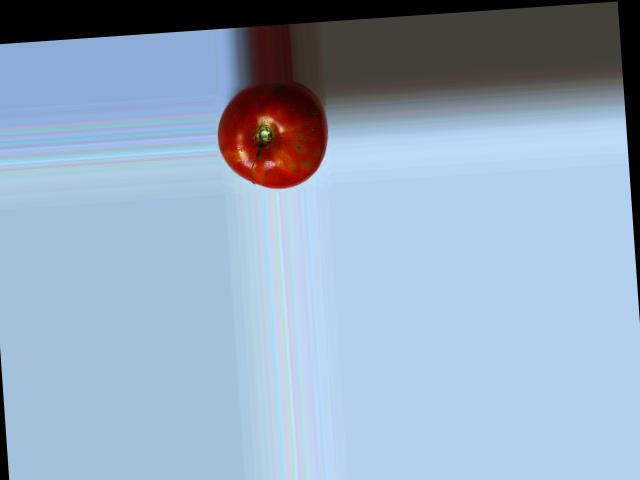tomato: (214, 78, 331, 192)
